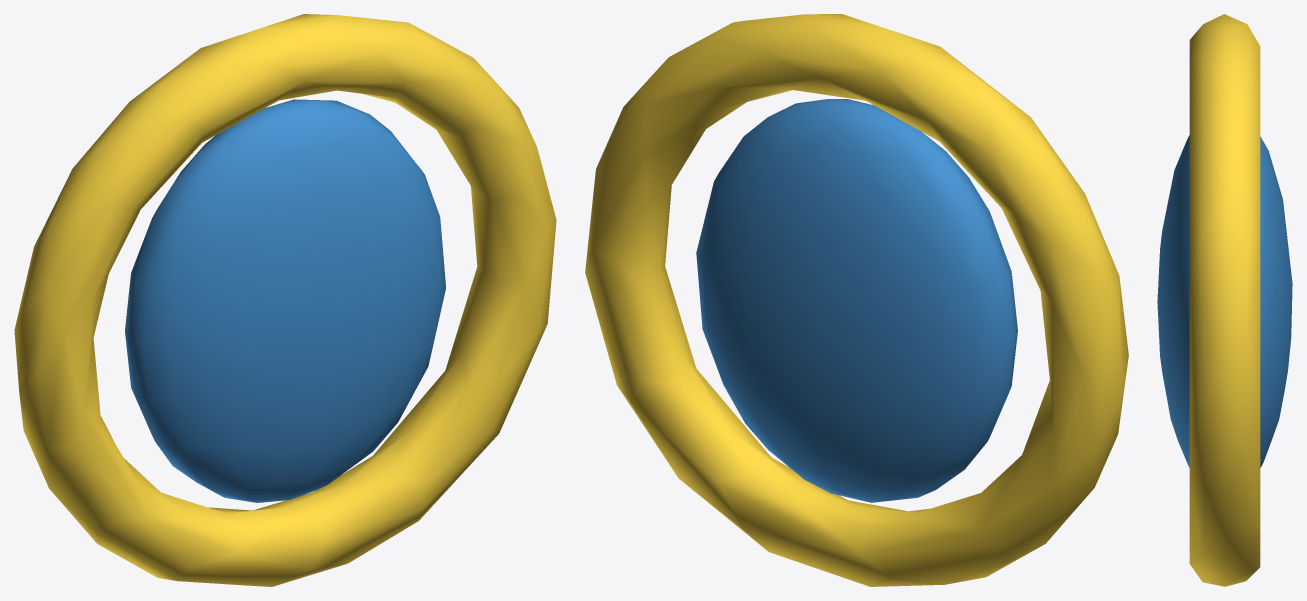
Rendered from Pickup_shield_LOD1.glb.
3 views of the same model, side by side, from view 1: azimuth 30°, elevation 25°; view 2: azimuth 150°, elevation 25°; view 3: azimuth 270°, elevation 25° (orthographic). The views are drawn at different scales.
Visible parts, largest first — view 1: Pickup ring.001, Shield; view 2: Pickup ring.001, Shield; view 3: Pickup ring.001, Shield.
Boxes of the visible parts, x1,y1,x2,y2 form: Pickup ring.001: (14,14,556,586); Shield: (125,99,445,502); Pickup ring.001: (585,14,1128,586); Shield: (696,99,1017,502); Pickup ring.001: (1189,14,1260,586); Shield: (1157,135,1292,467).
Bounding box in the file's own units: 0.849 × 0.8505 × 0.2.
